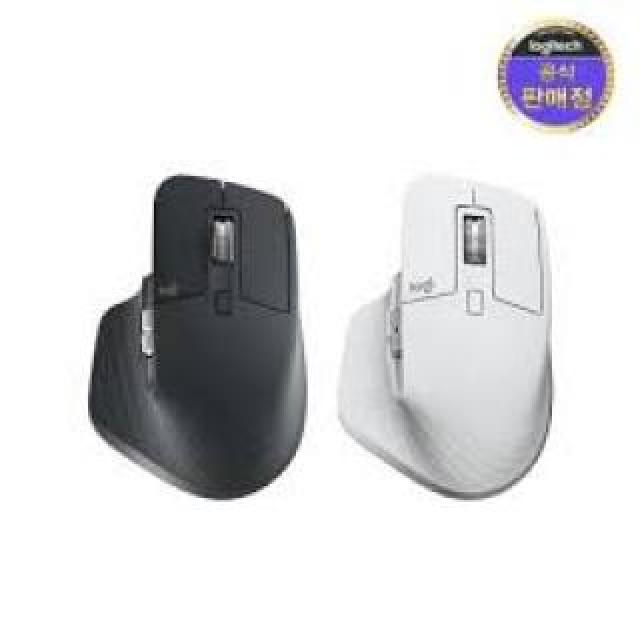mouse: (331, 165, 585, 524), (67, 169, 329, 499)
